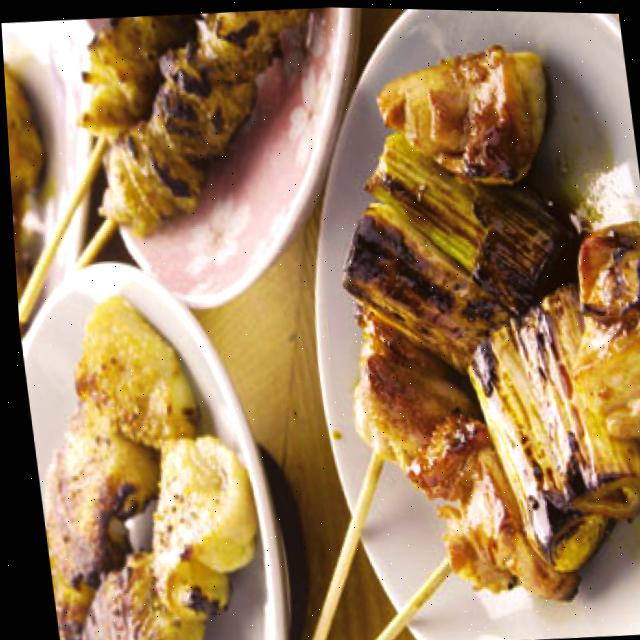烧串烤肉: (197, 18, 640, 640)
